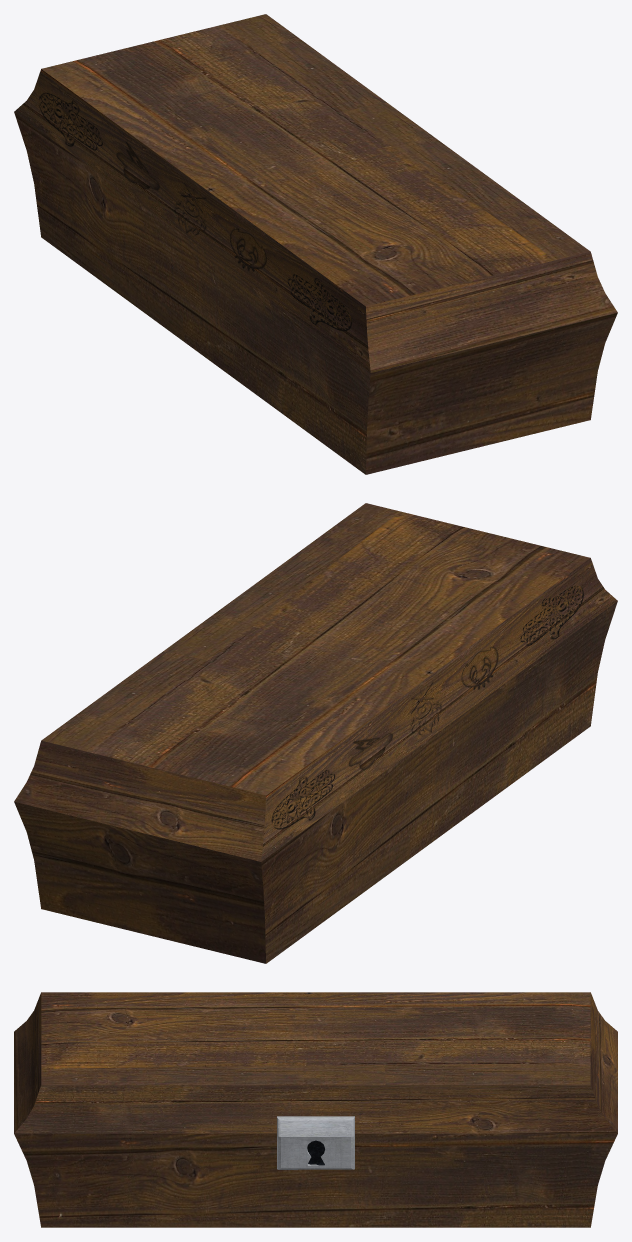
Rendered from Chest6.fbx.
3 views of the same model, one above another, from view 1: azimuth 30°, elevation 25°; view 2: azimuth 150°, elevation 25°; view 3: azimuth 270°, elevation 25° (orthographic). The views are drawn at different scales.
Parts seen in each view (by area): view 1: pCube5, pCube1; view 2: pCube5, pCube1; view 3: pCube5, pCube1, pCube9, pCube6.
Part boxes in pixels (box(x1,y1,x2,y2)): pCube5: box(14, 14, 617, 372); pCube1: box(14, 112, 617, 474); pCube5: box(14, 503, 617, 861); pCube1: box(14, 601, 617, 963); pCube5: box(14, 992, 617, 1133); pCube1: box(14, 1133, 617, 1227); pCube9: box(277, 1136, 354, 1169); pCube6: box(277, 1116, 354, 1136).
Bounding box in the file's own units: 21.19 × 13.84 × 51.31.
Materials: 3 (3 with a texture image).
